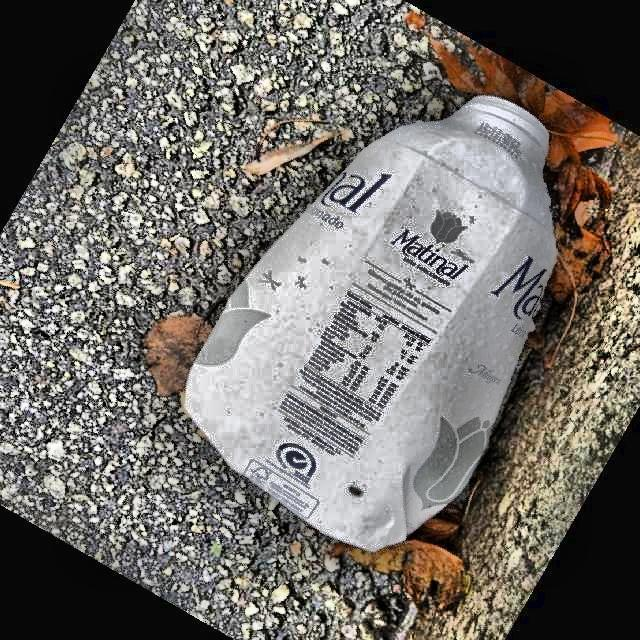plastic: (185, 96, 555, 550)
